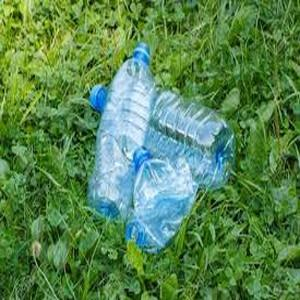Plastic: (85, 37, 150, 215), (127, 146, 197, 248)
